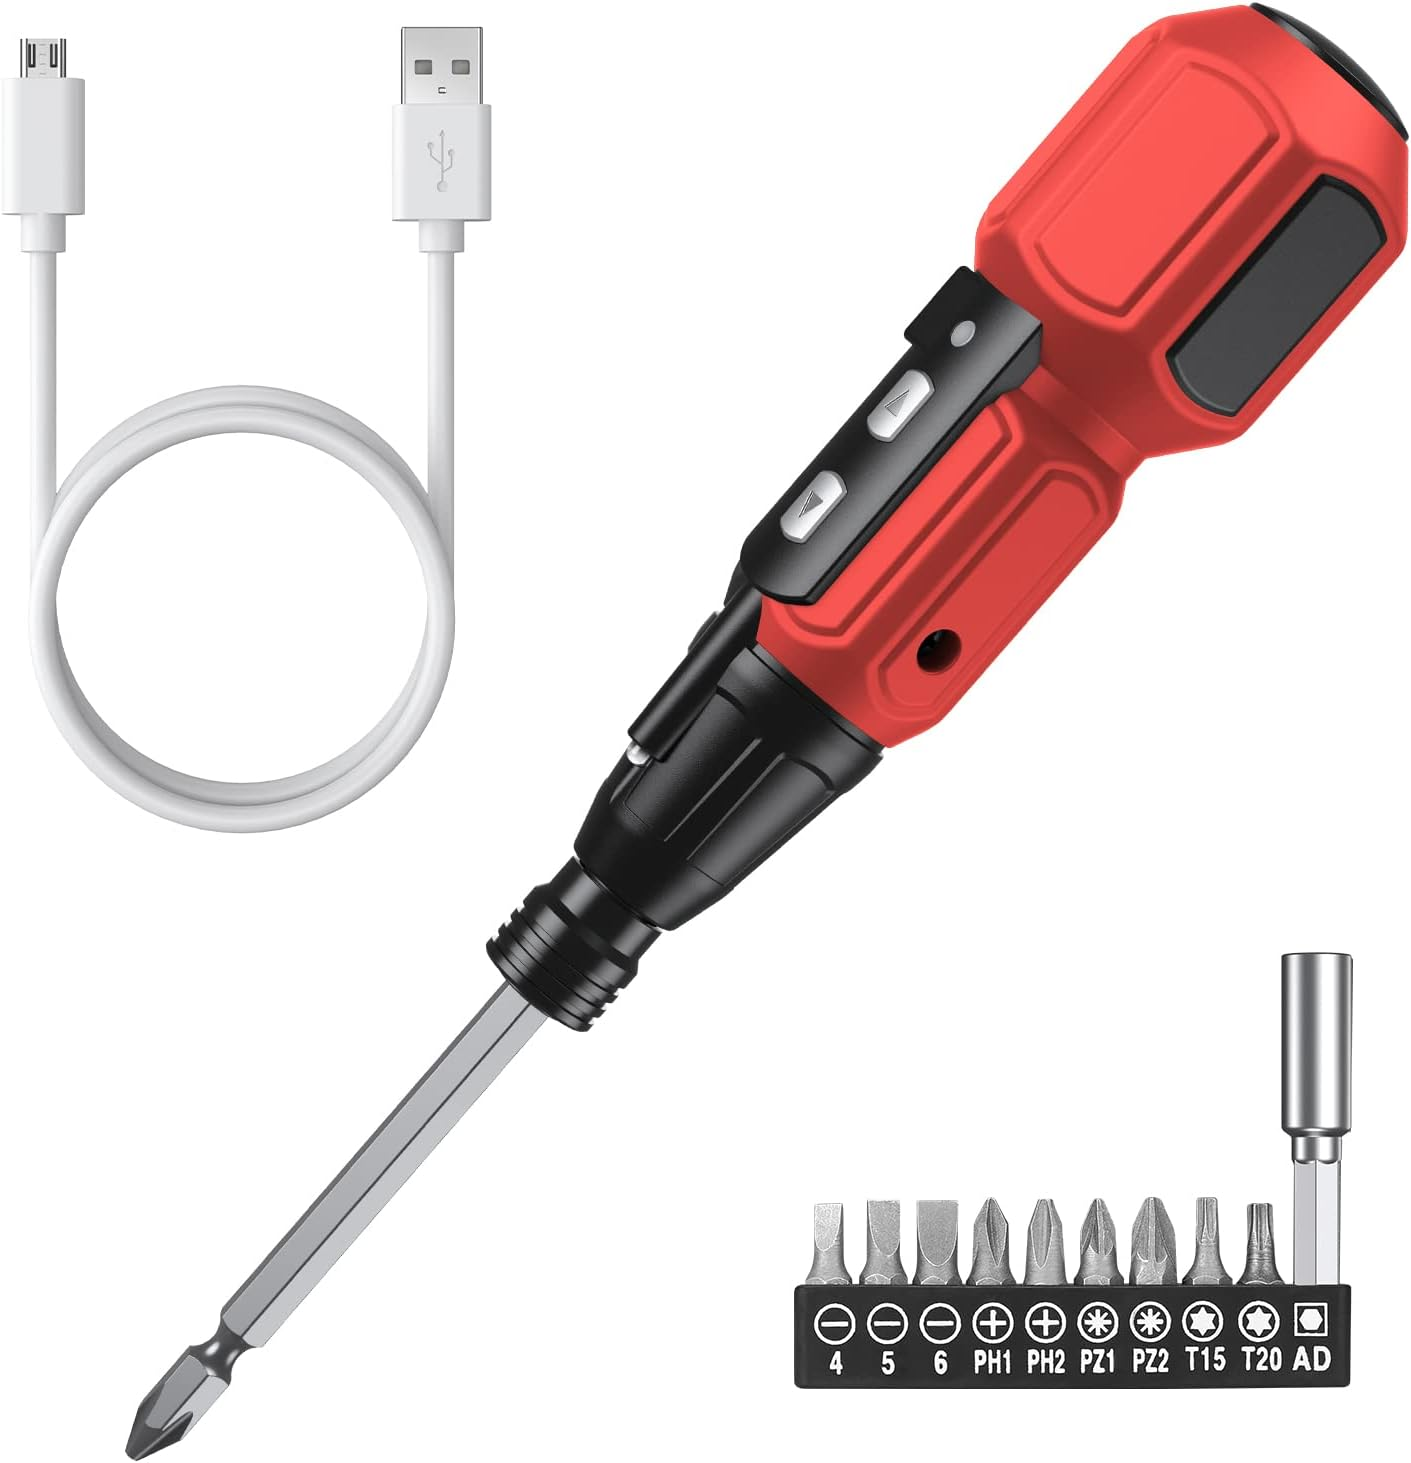screwdriver: (125, 1, 1411, 1458)
